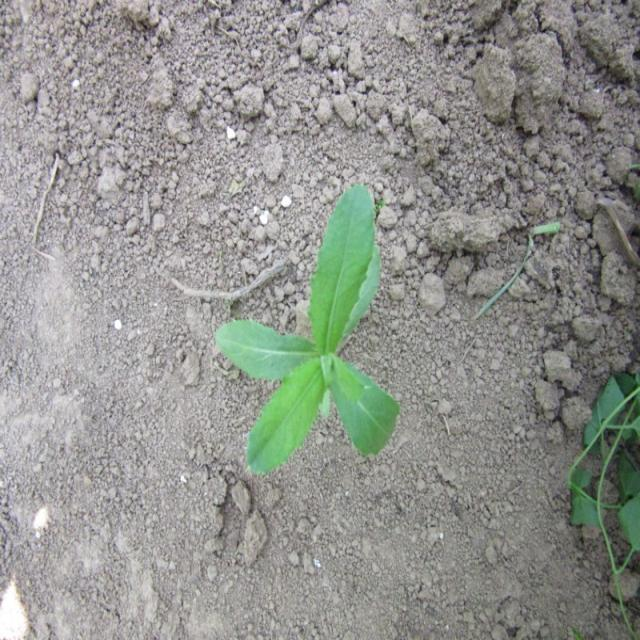field_thistle: (207, 174, 426, 516)
